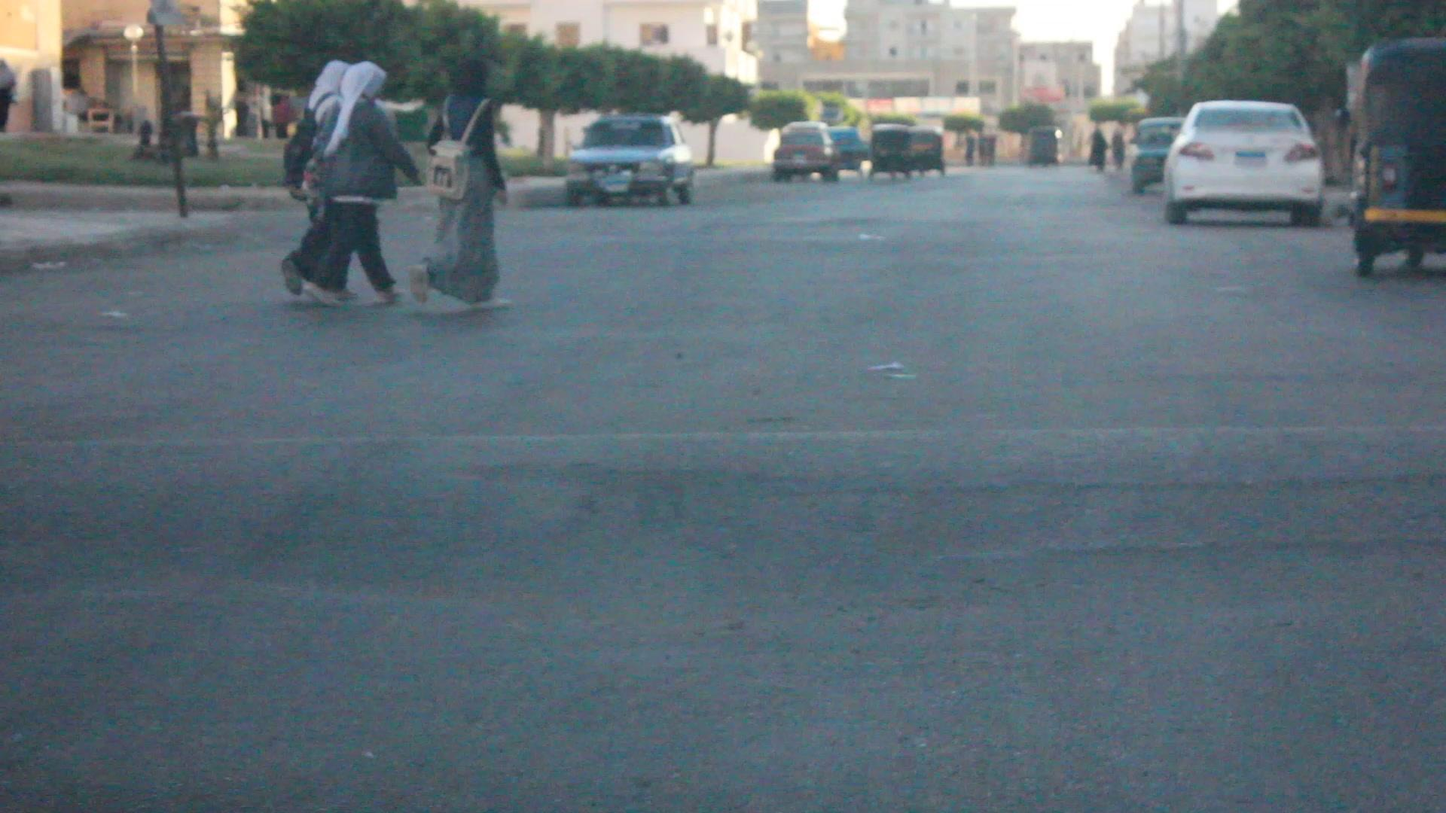Bump: (0, 410, 1446, 583)
